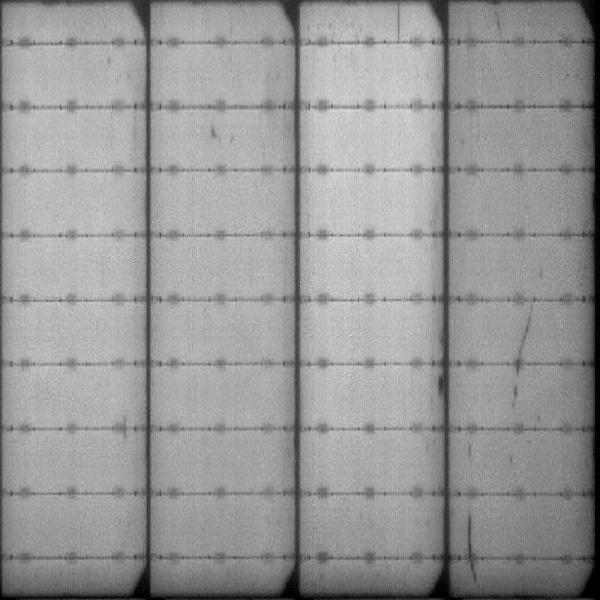scratch: (509, 300, 533, 405), (463, 511, 482, 584), (392, 1, 405, 39)
